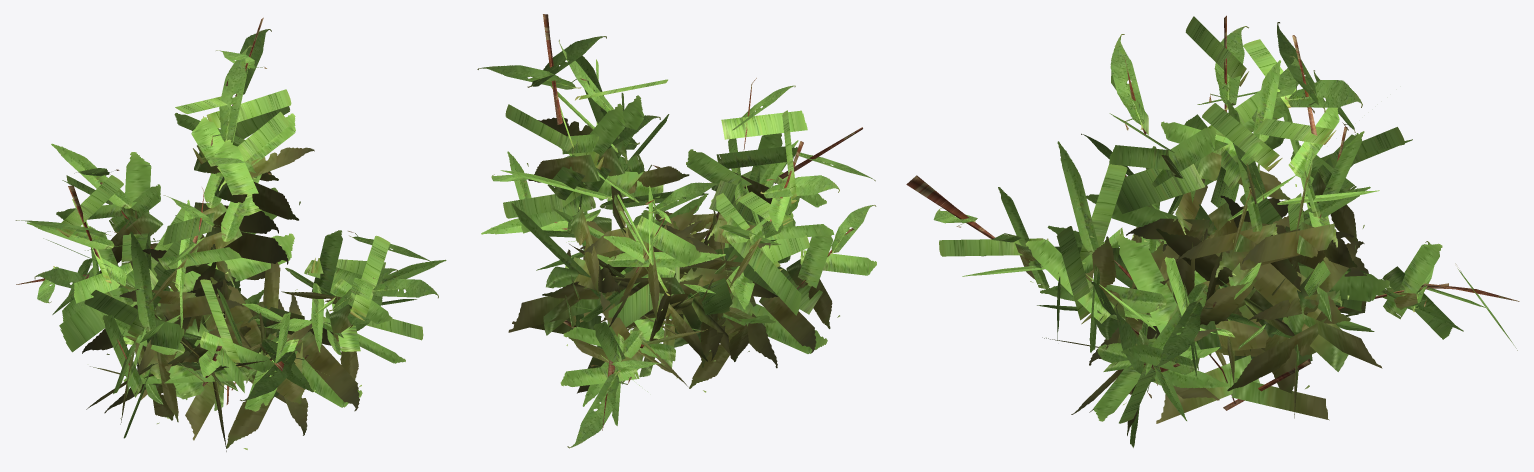
Rendered from bush_a.glb.
3 views of the same model, side by side, from view 1: azimuth 30°, elevation 25°; view 2: azimuth 150°, elevation 25°; view 3: azimuth 270°, elevation 25° (orthographic). The views are drawn at different scales.
Visible parts, largest first — view 1: bush_a; view 2: bush_a; view 3: bush_a.
Boxes of the visible parts, x1,y1,x2,y2 form: bush_a: (15,17,446,451); bush_a: (477,14,876,448); bush_a: (906,15,1519,447).
Size of what is drawn, in the model's own units: 1.42 by 1.27 by 1.65.
1 material, 1 textured.
